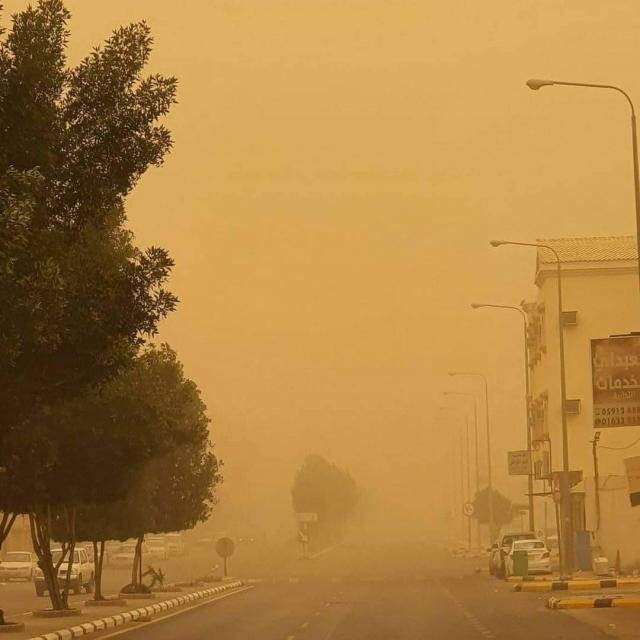Speed Bump: (244, 571, 496, 585)
